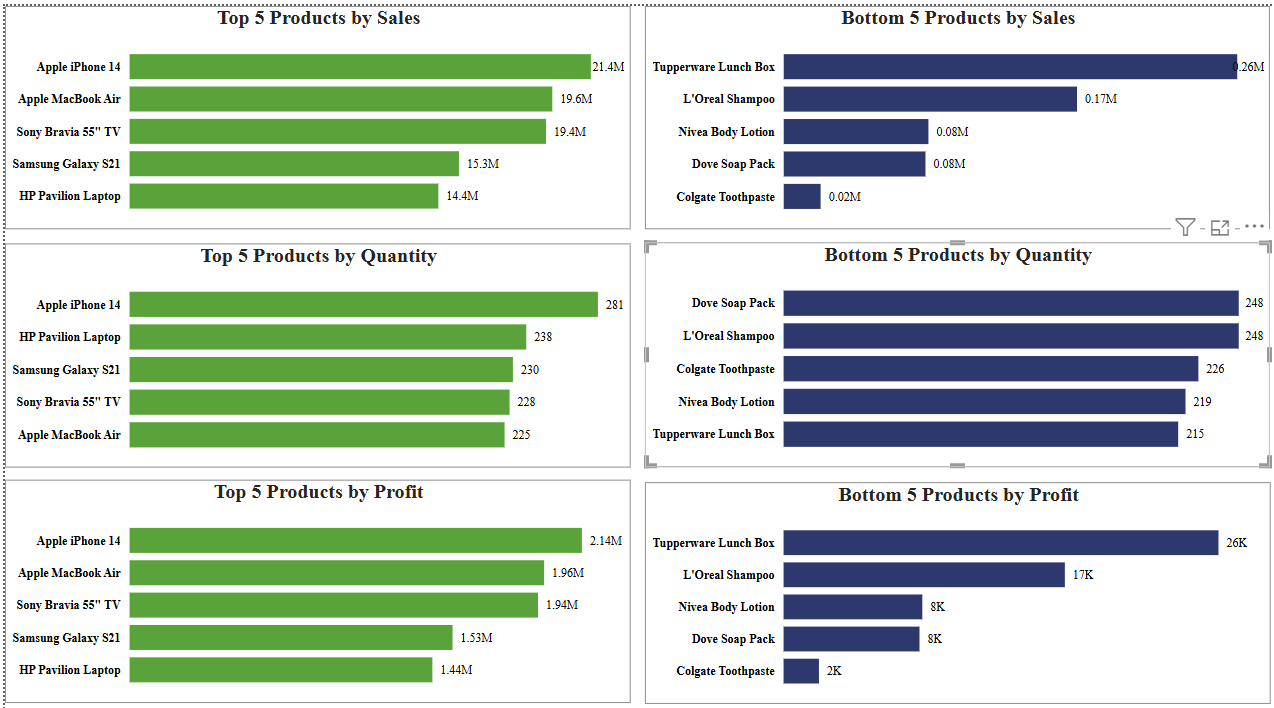

Layout of this report page (visuals, bound fields, positions):
{"tool":"powerbi","page":{"name":"Top/Bottom Sales/Quantity/Profit","canvas":[1280,720],"ordinal":1},"visuals":[{"type":"barChart","title":"Top 5 Products by Sales","fields":{"Category":["Dim Product.Product Name"],"Y":["Sum(Facts Table.Net Sales)"]},"box":[0,0,625.7,222.9],"z":0},{"type":"barChart","title":"Bottom 5 Products by Sales","fields":{"Category":["Dim Product.Product Name"],"Y":["Sum(Facts Table.Net Sales)"]},"box":[640,0,625,223.3],"z":1000},{"type":"barChart","title":"Top 5 Products by Quantity","fields":{"Category":["Dim Product.Product Name"],"Y":["Sum(Facts Table.Units Sold)"]},"box":[0,237.1,625.7,224.3],"z":2000},{"type":"barChart","title":"Bottom 5 Products by Quantity","fields":{"Category":["Dim Product.Product Name"],"Y":["Sum(Facts Table.Units Sold)"]},"box":[640,236.7,625,225],"z":3000},{"type":"barChart","title":"Bottom 5 Products by Profit","fields":{"Category":["Dim Product.Product Name"],"Y":["Sum(Facts Table.Profit)"]},"box":[640,475.7,625.7,221.4],"z":4000},{"type":"barChart","title":"Top 5 Products by Profit","fields":{"Category":["Dim Product.Product Name"],"Y":["Sum(Facts Table.Profit)"]},"box":[0,474.3,625.7,222.9],"z":5000}]}

Visuals, with their boxes in screenshot pixels (x1, y1, x2, y2), scaled from the page's 1280x720 canvas onto the 1274x708 screenshot:
"Top 5 Products by Sales" barChart: 0 0 623 219
"Bottom 5 Products by Sales" barChart: 637 0 1259 220
"Top 5 Products by Quantity" barChart: 0 233 623 454
"Bottom 5 Products by Quantity" barChart: 637 233 1259 454
"Bottom 5 Products by Profit" barChart: 637 468 1260 685
"Top 5 Products by Profit" barChart: 0 466 623 686
